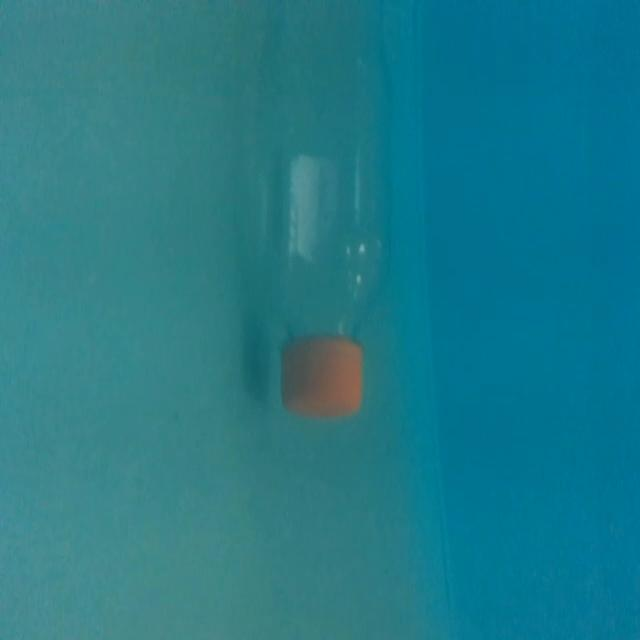plastic bottle: (252, 9, 407, 423)
